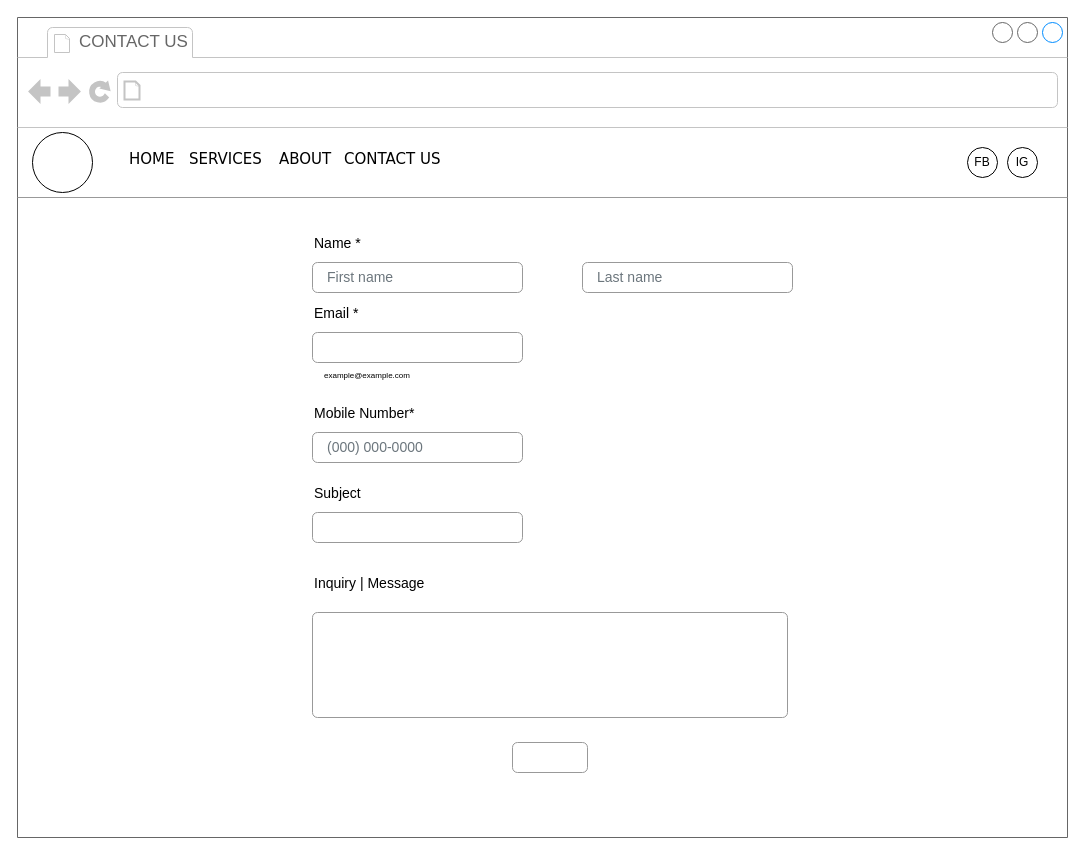
This 1085x855 diagram has some shape labels left out. Here are the shapes that lost their labels. From the top down, the box of each, then its label:
(146, 76, 398, 104): https://www.ihypesfmedia.com/contact-us
(32, 132, 92, 192): LOGO
(512, 742, 588, 772): SUBMIT
